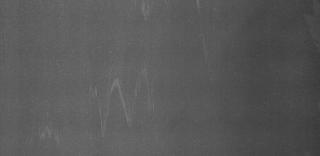silk spot: (90, 73, 148, 143), (39, 117, 63, 147), (135, 2, 163, 20)
